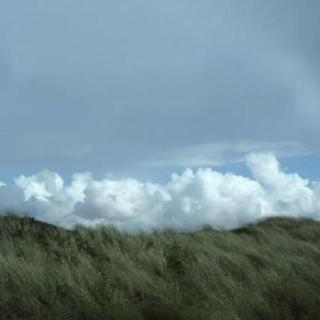Cumulus: (0, 0, 320, 222)
